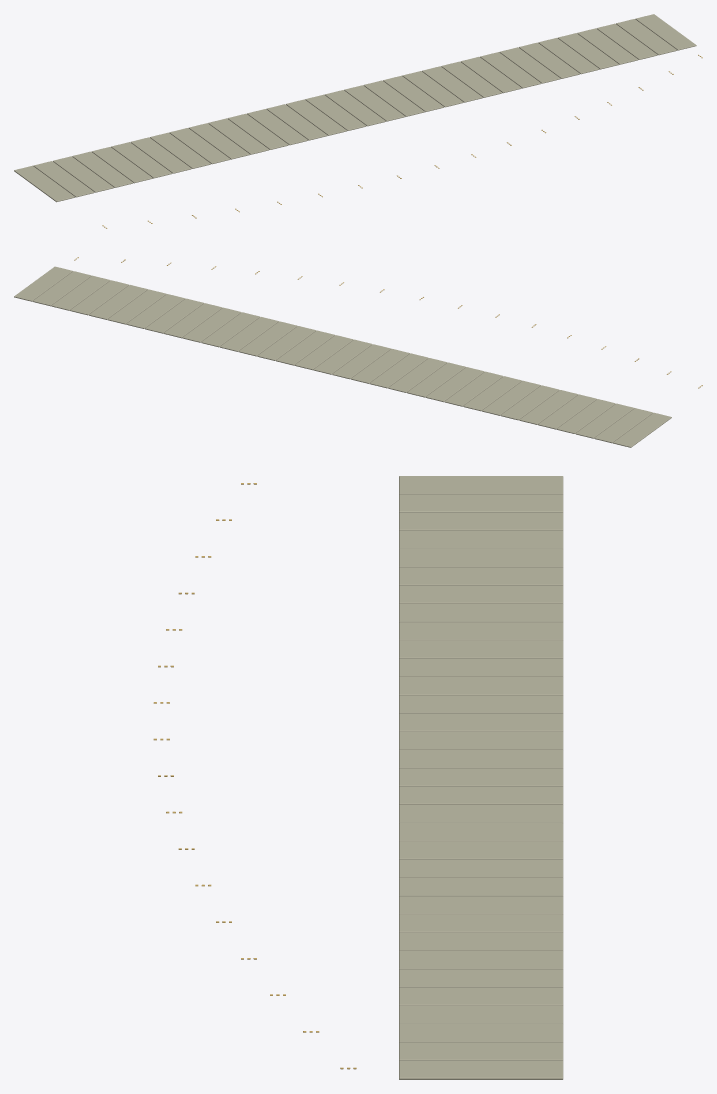
File: SM_Paving.fbx
3 views of the same model, one above another, from view 1: azimuth 30°, elevation 25°; view 2: azimuth 150°, elevation 25°; view 3: azimuth 270°, elevation 25° (orthographic). The views are drawn at different scales.
Parts seen in each view (by area): view 1: SM_Paving; view 2: SM_Paving; view 3: SM_Paving.
Part boxes in pixels (x1,y1,x2,y2): SM_Paving: (14, 14, 702, 228); SM_Paving: (14, 257, 702, 447); SM_Paving: (153, 476, 563, 1079).
Size of the model in its own units: 3297 by 948 by 8.85.
